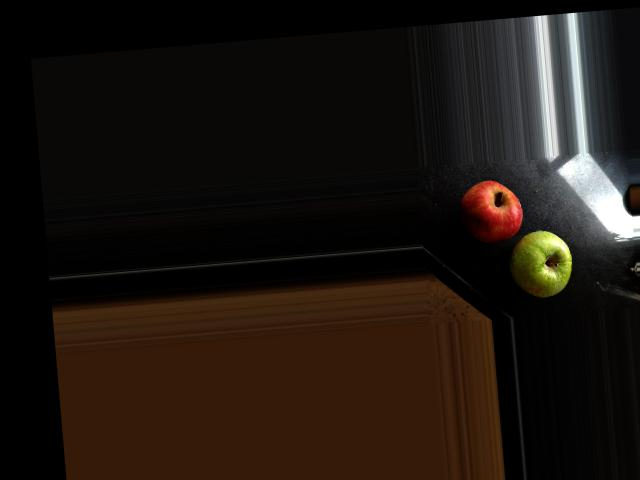apple: (454, 175, 527, 243)
